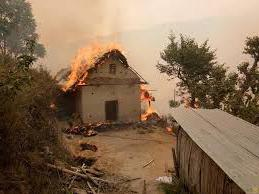fire: (60, 30, 124, 92), (141, 82, 159, 121)
